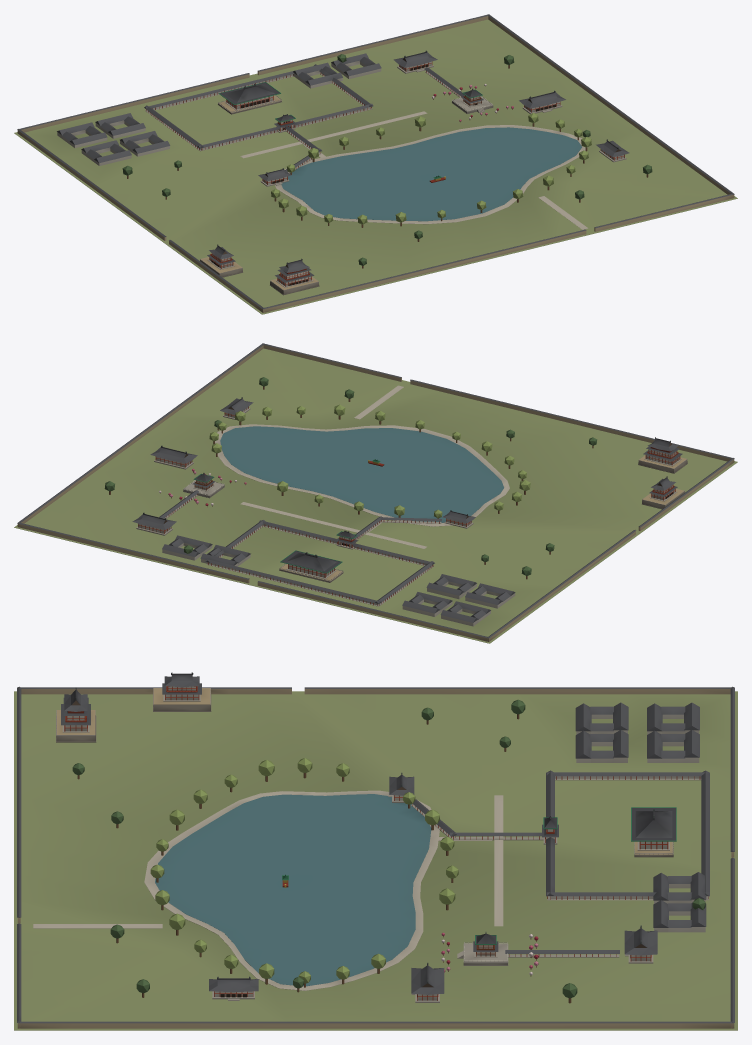
The model's file is xingqing-palace.glb.
3 views of the same model, one above another, from view 1: azimuth 30°, elevation 25°; view 2: azimuth 150°, elevation 25°; view 3: azimuth 270°, elevation 25° (orthographic). The views are drawn at different scales.
Parts seen in each view (by area): view 1: p0_halls, p1_halls, p2_roofs; view 2: p0_halls, p1_halls, p2_roofs; view 3: p0_halls, p1_halls, p2_roofs.
Part boxes in pixels (x1=…): p0_halls: x1=14, y1=14, x2=737, y2=314; p1_halls: x1=57, y1=53, x2=626, y2=287; p2_roofs: x1=122, y1=50, x2=652, y2=282; p0_halls: x1=14, y1=343, x2=737, y2=643; p1_halls: x1=136, y1=406, x2=681, y2=626; p2_roofs: x1=104, y1=377, x2=682, y2=579; p0_halls: x1=14, y1=686, x2=737, y2=1030; p1_halls: x1=62, y1=686, x2=706, y2=1002; p2_roofs: x1=61, y1=672, x2=705, y2=1003.
Bounding box in the file's own units: 620 × 31.82 × 560.
